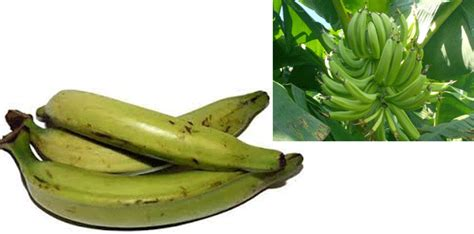banana: (16, 151, 305, 231), (32, 87, 276, 173), (44, 90, 288, 172), (384, 73, 425, 101), (373, 37, 394, 86)
